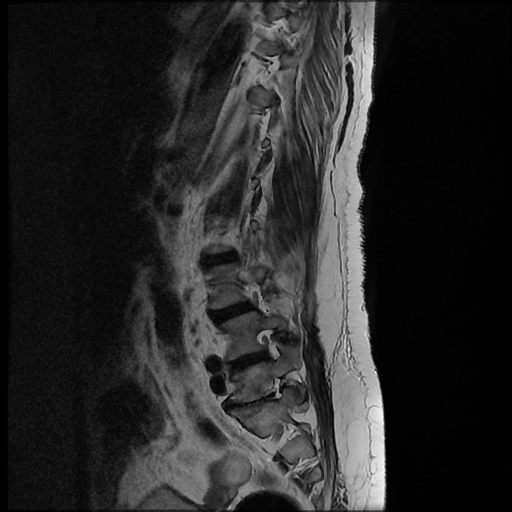LFS0: (249, 322, 288, 364)
